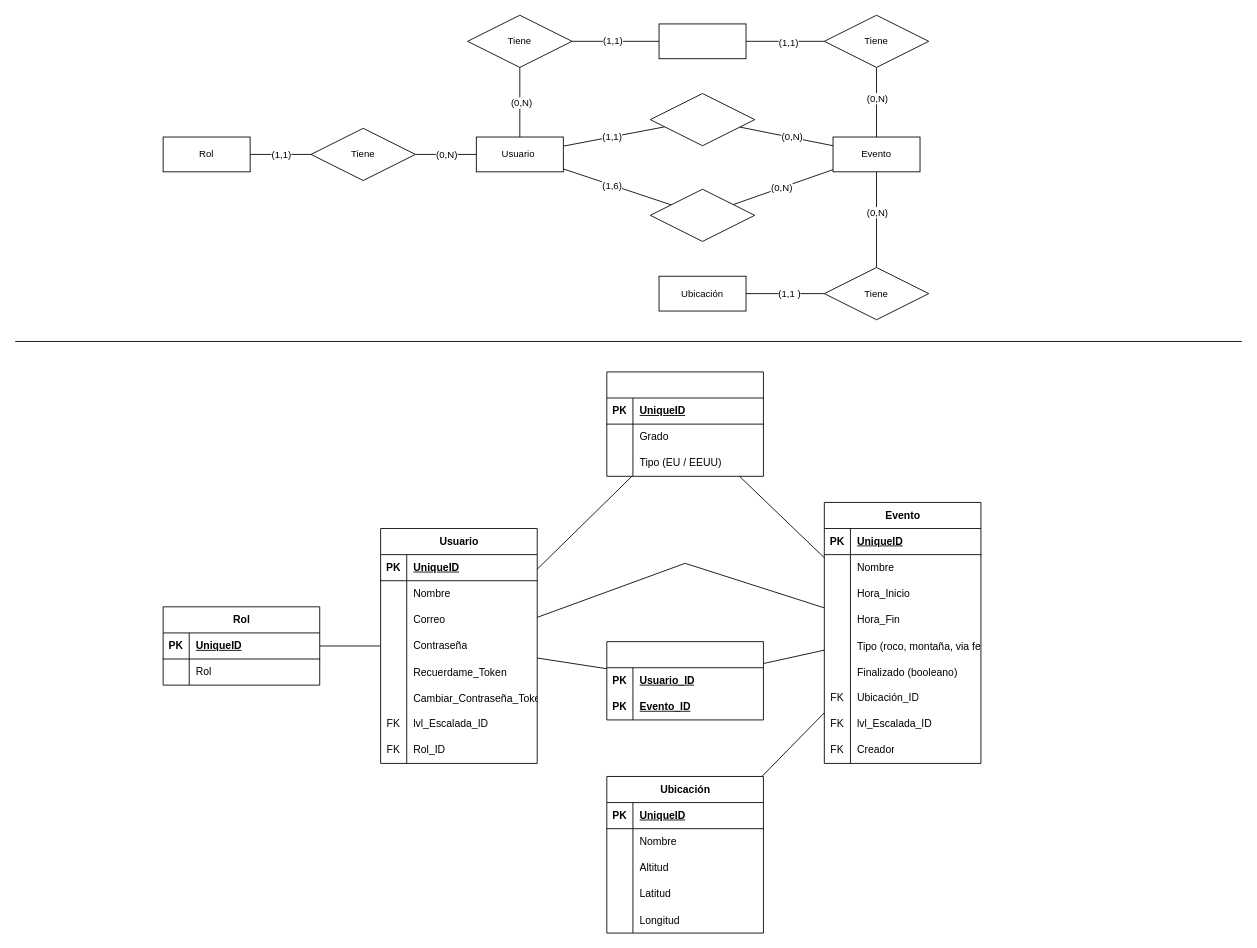
Some shapes in this 1257 by 948 pixel diagram are drawn without their labels. The box of each missing label's shape, as (x1, y1, x2, y2) in pixels:
Apuntarse: (649, 188, 755, 241)
Crear: (649, 93, 755, 146)
Evento_Usuario: (606, 641, 763, 720)
lvl Escalada: (658, 23, 746, 59)
Nivel de Escalada: (606, 371, 763, 476)
